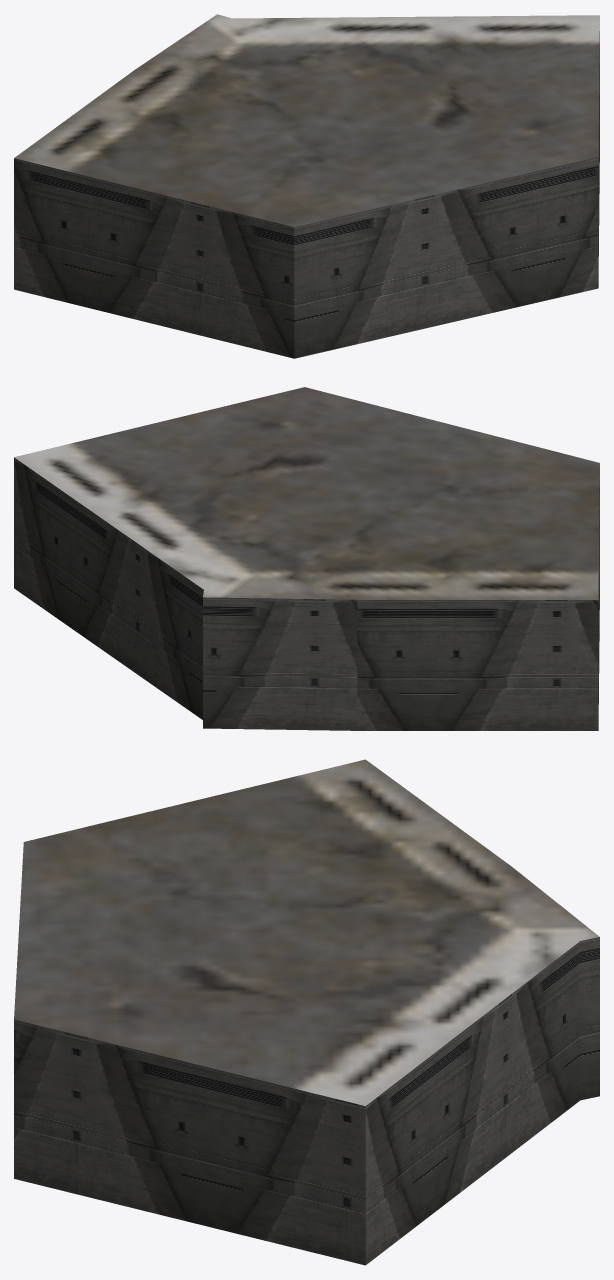
File: fortress_light_28.glb
3 views of the same model, one above another, from view 1: azimuth 30°, elevation 25°; view 2: azimuth 150°, elevation 25°; view 3: azimuth 270°, elevation 25° (orthographic). The views are drawn at different scales.
Visible parts, largest first — view 1: buildings/saxarba/fortress_light/fortress_light_28; view 2: buildings/saxarba/fortress_light/fortress_light_28; view 3: buildings/saxarba/fortress_light/fortress_light_28.
Part boxes in pixels (x1,y1,x2,y2): buildings/saxarba/fortress_light/fortress_light_28: [14, 14, 599, 358]; buildings/saxarba/fortress_light/fortress_light_28: [14, 387, 599, 730]; buildings/saxarba/fortress_light/fortress_light_28: [14, 759, 599, 1265].
Bounding box in the file's own units: 84 × 18 × 60.
